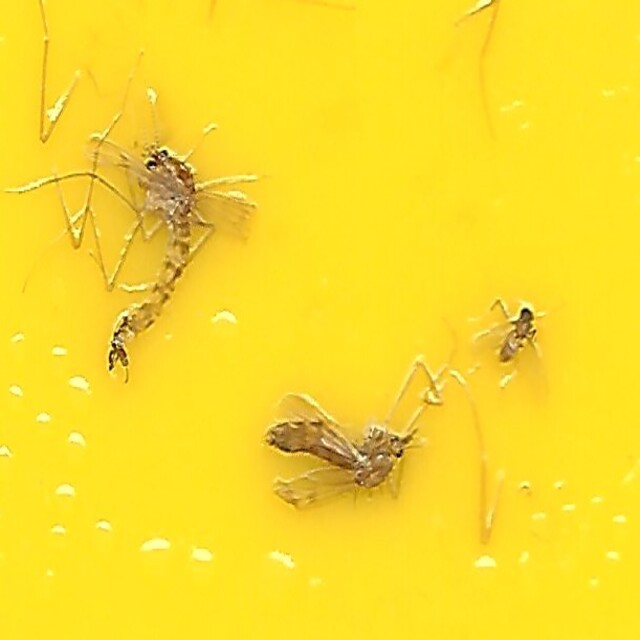Nematocera: (105, 147, 197, 374), (263, 400, 405, 493), (498, 303, 535, 366)
